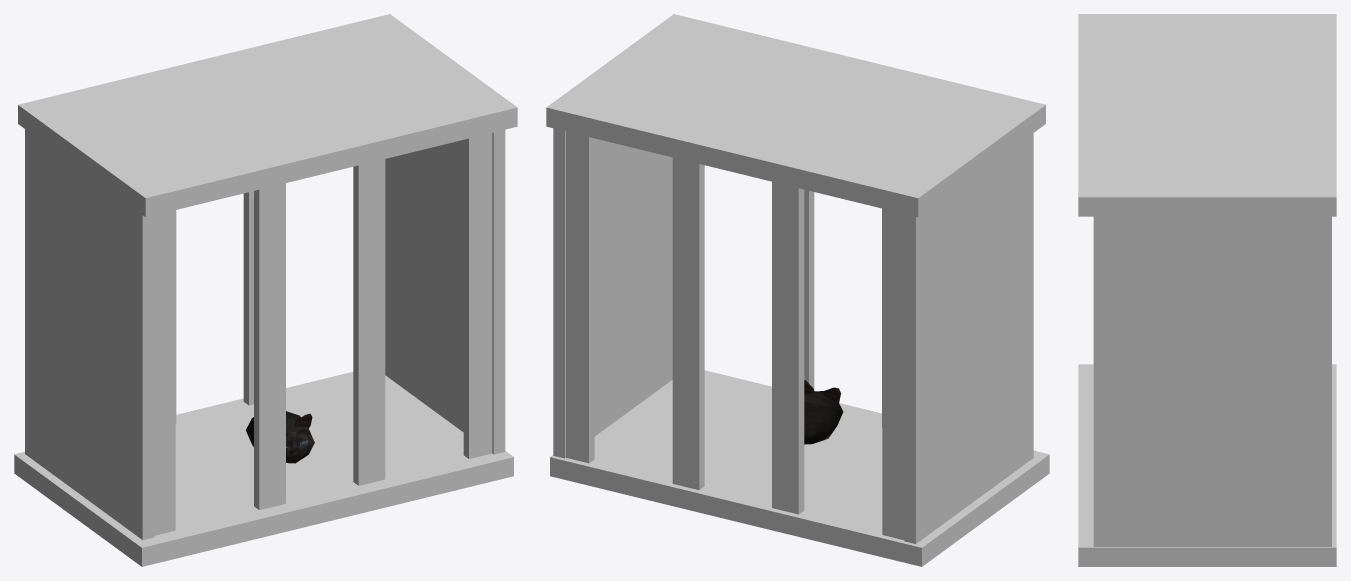
Rendered from GATO.glb.
3 renders of one model, left to right at view 1: azimuth 30°, elevation 25°; view 2: azimuth 150°, elevation 25°; view 3: azimuth 270°, elevation 25°, orthographic.
Parts seen in each view (by area): view 1: Cube.005, Cube.007, Cube.006, Cube.002, Cube.001, Cube.004, Cube; view 2: Cube.005, Cube.007, Cube.006, Cube.004, Cube.003, Cube.002, Cube; view 3: Cube.005, Cube.007, Cube.006.
Part boxes in pixels (x1,y1,x2,y2): Cube.005: [25, 129, 505, 539]; Cube.007: [18, 14, 517, 217]; Cube.006: [14, 372, 513, 566]; Cube.002: [254, 159, 385, 509]; Cube.001: [154, 133, 492, 535]; Cube.004: [175, 191, 253, 423]; Cube: [246, 411, 314, 463]; Cube.005: [553, 128, 1033, 543]; Cube.007: [546, 14, 1045, 217]; Cube.006: [550, 370, 1049, 566]; Cube.004: [672, 157, 804, 514]; Cube.003: [566, 131, 904, 539]; Cube.002: [804, 189, 882, 427]; Cube: [804, 380, 843, 444]; Cube.005: [1093, 216, 1331, 546]; Cube.007: [1078, 14, 1336, 216]; Cube.006: [1078, 364, 1336, 566].
Bounding box in the file's own units: 2.17 × 2.03 × 1.28.
Materials: 2 (2 with a texture image).
